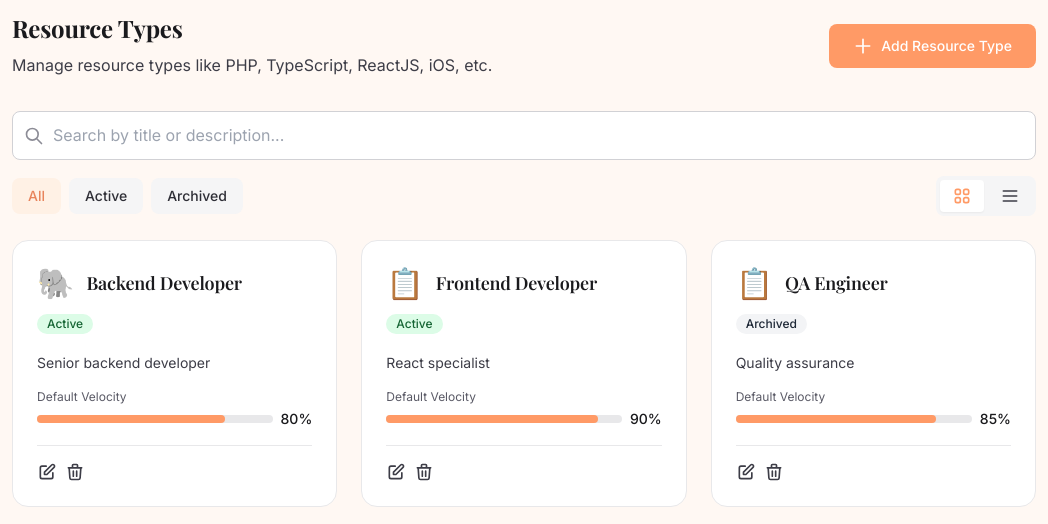
Test: ResourcesManagement › Filter Functionality › should filter by Archived status
Step 1. Click the button "Archived" → (197,196), box [151,178,243,214]
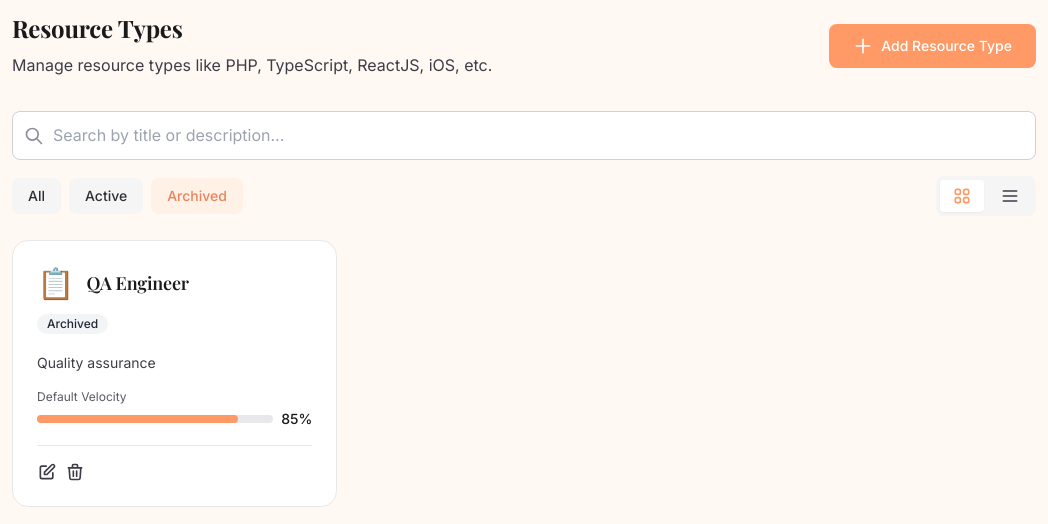
Expected: the heading "QA Engineer" is shown, [86,269,189,297]
Now the heading "Backend Developer" is gone
Now the heading "Frontend Developer" is gone
